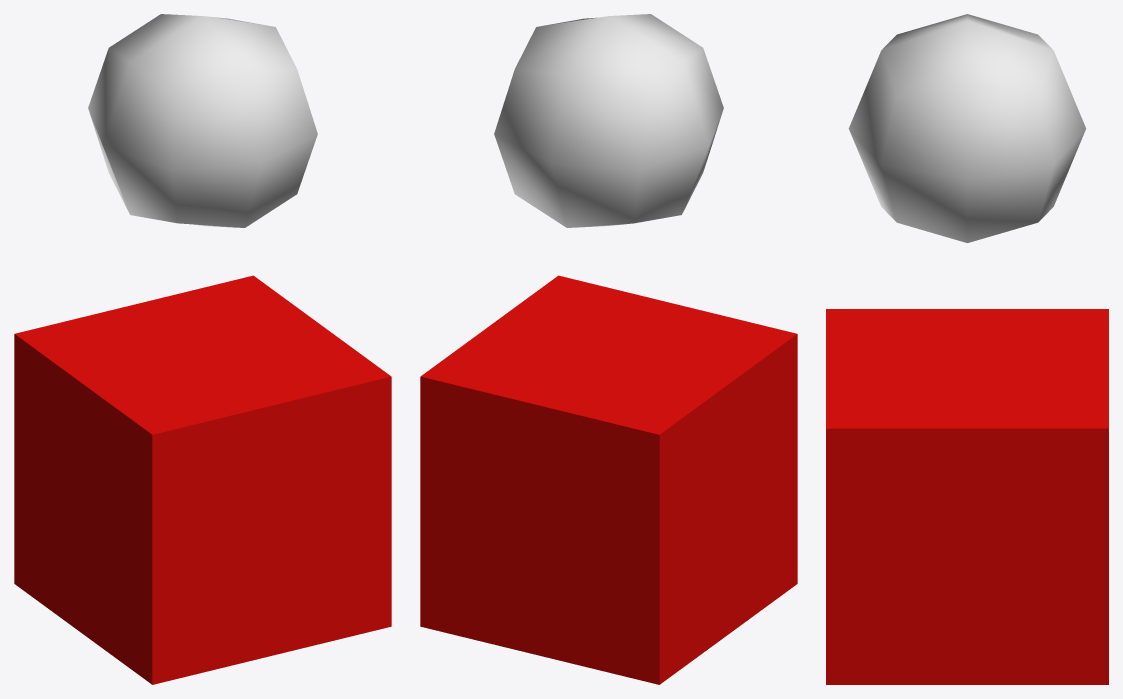
Rendered from meshopt-no-fallback.gltf.
3 views of the same model, side by side, from view 1: azimuth 30°, elevation 25°; view 2: azimuth 150°, elevation 25°; view 3: azimuth 270°, elevation 25° (orthographic). The views are drawn at different scales.
Parts seen in each view (by area): view 1: Cube, Cube.001; view 2: Cube, Cube.001; view 3: Cube, Cube.001.
Boxes of the visible parts, left/top/right/bottom form: Cube: left=14, top=275, right=391, bottom=684; Cube.001: left=88, top=14, right=317, bottom=227; Cube: left=420, top=275, right=797, bottom=684; Cube.001: left=494, top=14, right=723, bottom=227; Cube: left=826, top=309, right=1108, bottom=684; Cube.001: left=848, top=14, right=1086, bottom=242.
Size of the model in its own units: 2 by 4.71 by 2.
